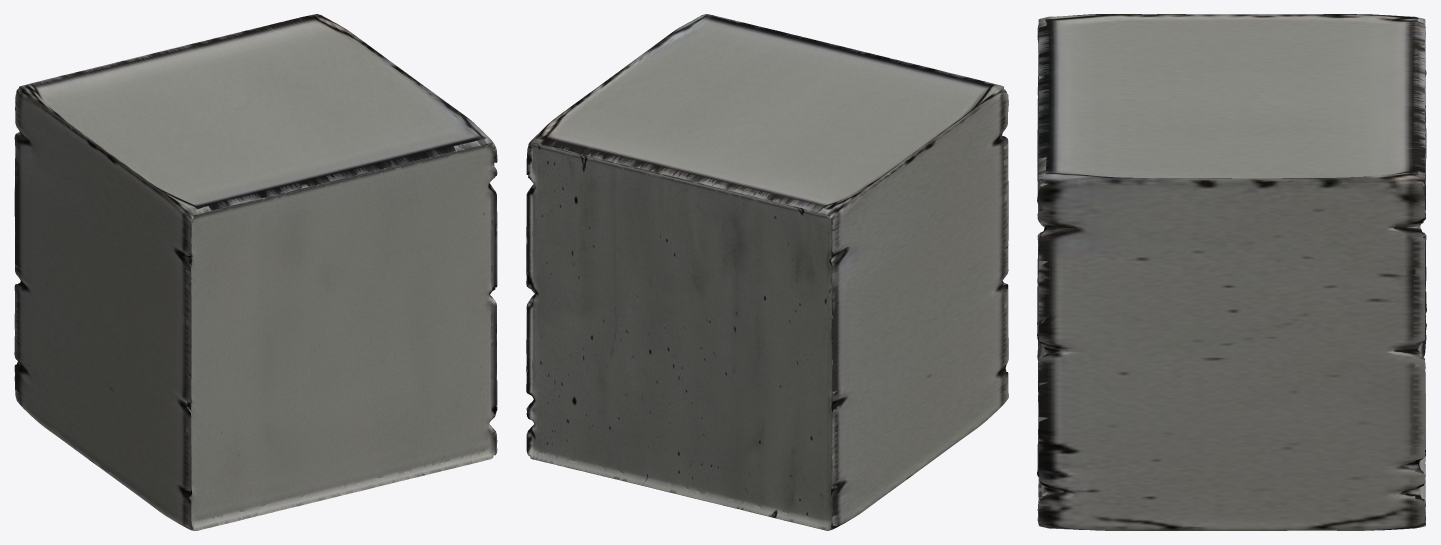
Rendered from wall-concrete-half.glb.
The picture shows the model from 3 angles, left to right: view 1: azimuth 30°, elevation 25°; view 2: azimuth 150°, elevation 25°; view 3: azimuth 270°, elevation 25°; orthographic projection. The views are drawn at different scales.
Visible parts, largest first — view 1: tmpzv7q6j_y.ply; view 2: tmpzv7q6j_y.ply; view 3: tmpzv7q6j_y.ply.
Boxes of the visible parts, <box> form: tmpzv7q6j_y.ply: <box>14,14,497,530</box>; tmpzv7q6j_y.ply: <box>526,14,1008,530</box>; tmpzv7q6j_y.ply: <box>1037,14,1426,530</box>.
Size of the model in its own units: 1 by 1 by 1.
Materials: 1 (1 with a texture image).
